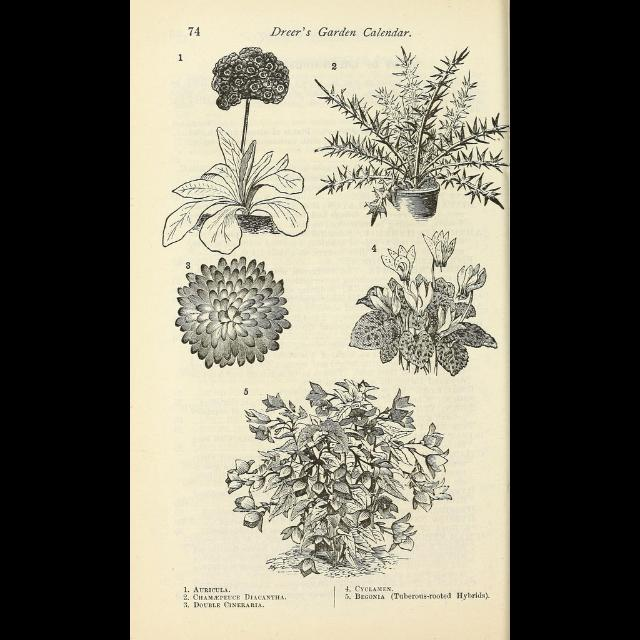Flower: (175, 244, 293, 370)
